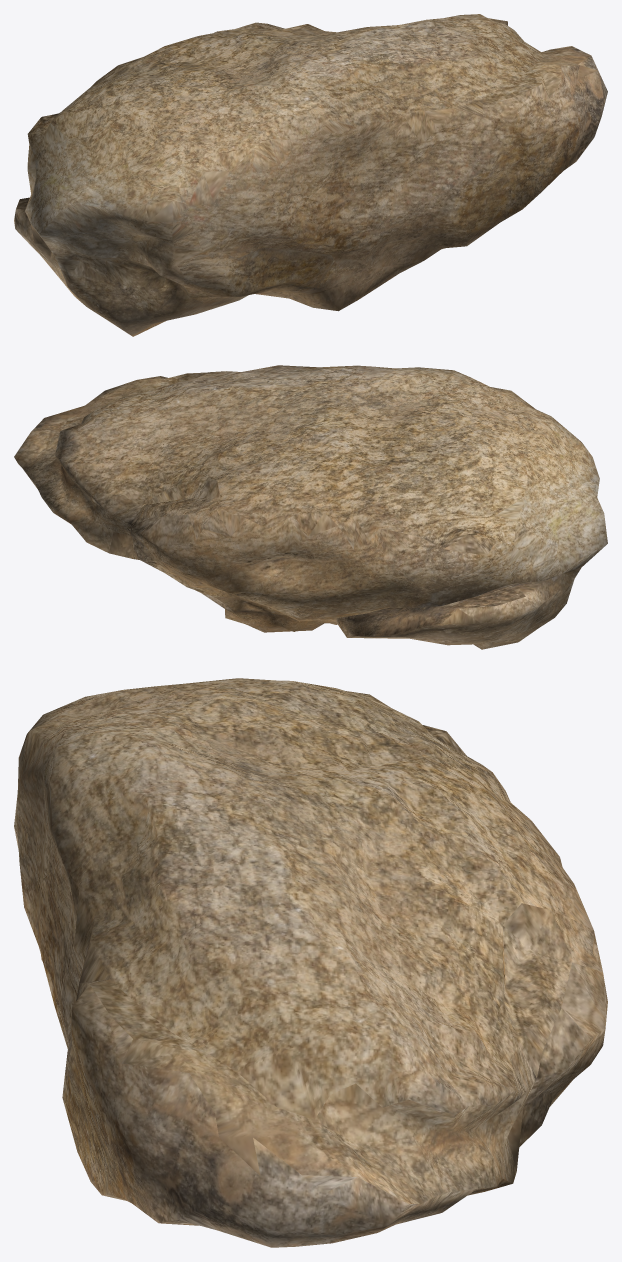
File: rock_a.glb
3 views of the same model, one above another, from view 1: azimuth 30°, elevation 25°; view 2: azimuth 150°, elevation 25°; view 3: azimuth 270°, elevation 25° (orthographic). The views are drawn at different scales.
Parts seen in each view (by area): view 1: rock_a; view 2: rock_a; view 3: rock_a.
Part boxes in pixels (left/top/right/bottom): rock_a: left=14, top=14, right=607, bottom=336; rock_a: left=14, top=365, right=607, bottom=649; rock_a: left=14, top=678, right=607, bottom=1247.
Bounding box in the file's own units: 1 × 0.3882 × 0.5436.
1 material, 1 textured.
